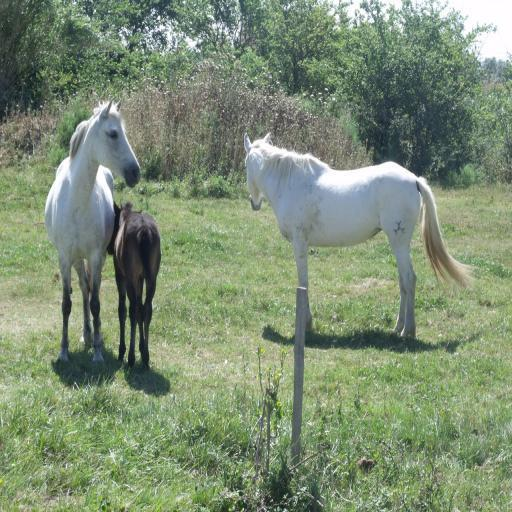horse: (242, 130, 482, 338), (42, 94, 144, 362), (105, 202, 162, 368)
